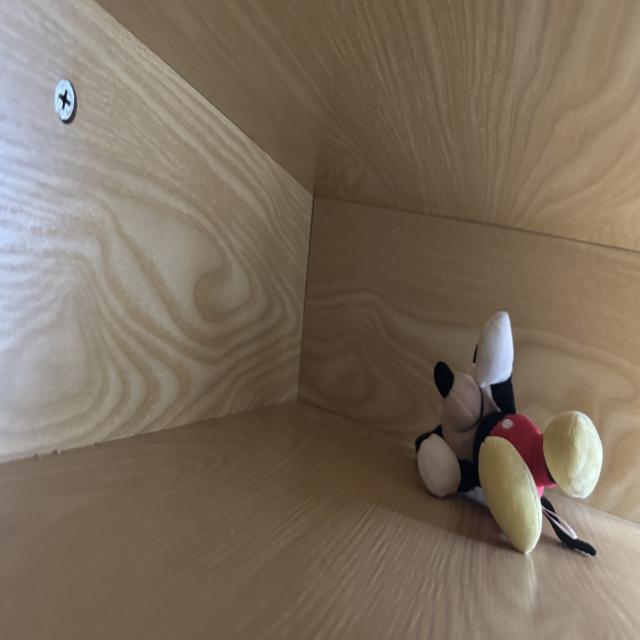mickey: (416, 312, 602, 553)
